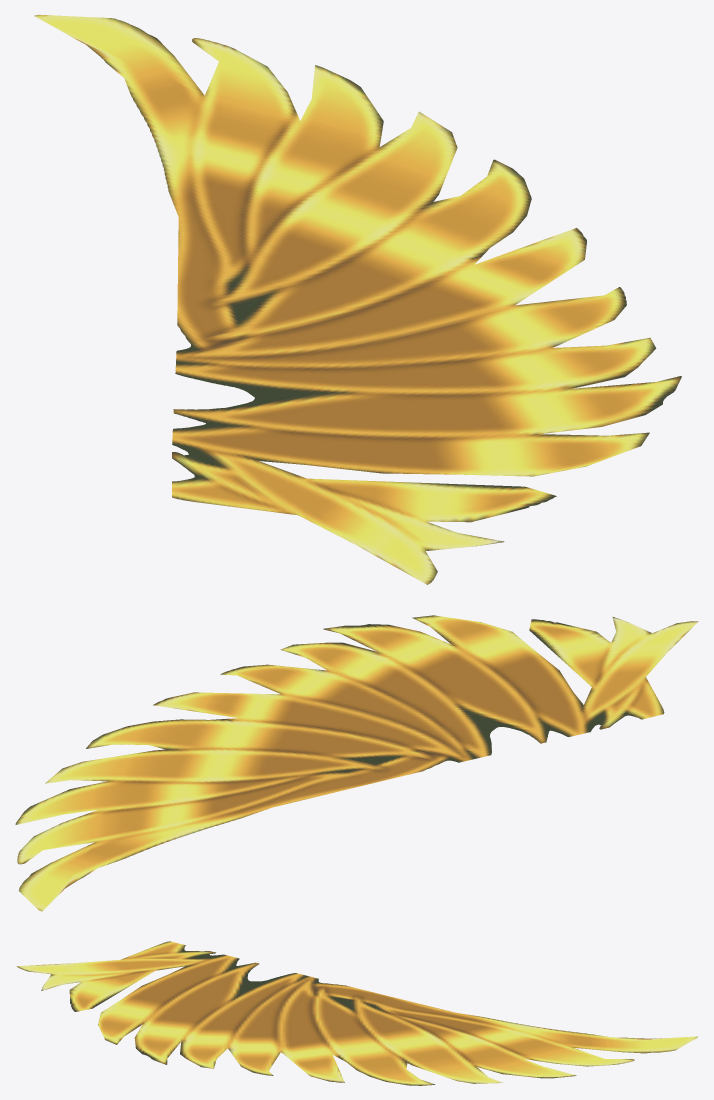
File: cibang.FBX
The picture shows the model from 3 angles, top to bottom: view 1: azimuth 30°, elevation 25°; view 2: azimuth 150°, elevation 25°; view 3: azimuth 270°, elevation 25°; orthographic projection. The views are drawn at different scales.
Parts seen in each view (by area): view 1: Plane001; view 2: Plane001; view 3: Plane001.
Part boxes in pixels (x1,y1,x2,y2): Plane001: (34, 14, 681, 584); Plane001: (15, 615, 698, 911); Plane001: (17, 941, 697, 1085).
Bounding box in the file's own units: 300 × 3.67e-14 × 600.
